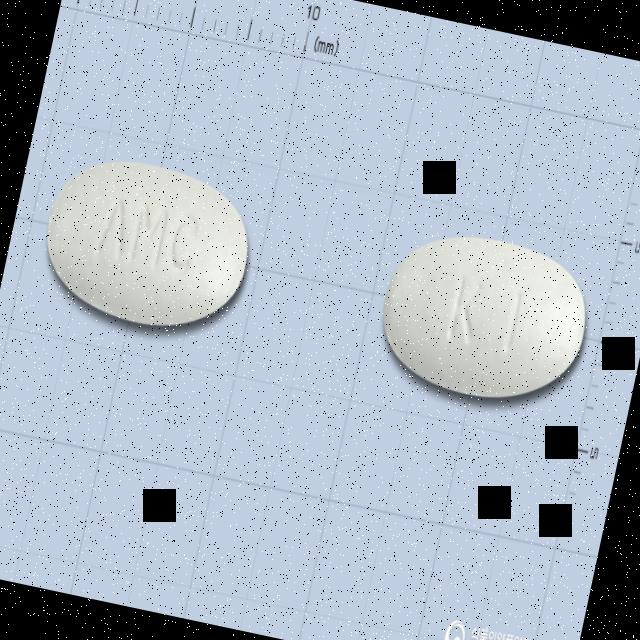Amocla 625mg: (28, 140, 266, 350), (368, 216, 602, 418)
